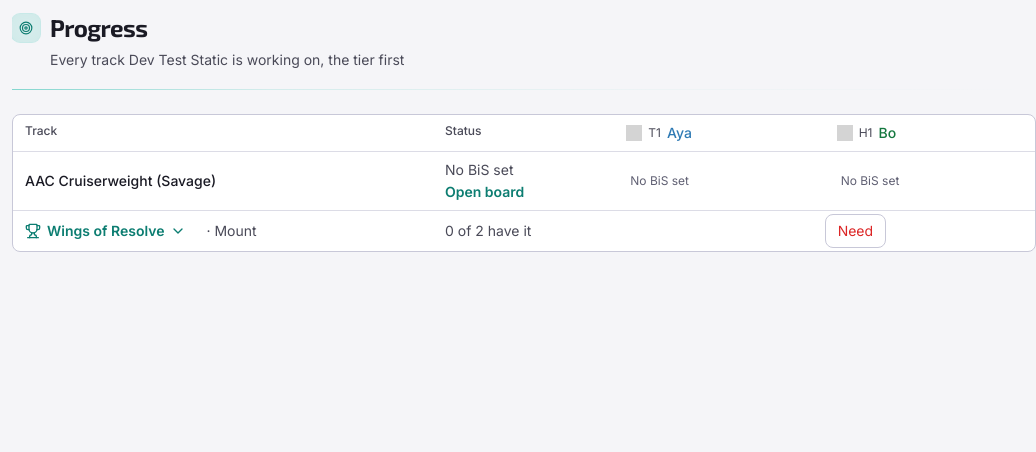
Test: ProgressPage open row: I got it under View As (S2a-3a·G3; R-S3-7, R-S3-16) › hides for a drop the viewed user already has
Click the button "Wings of Resolve". click: (106, 231)
box: [13, 215, 198, 247]
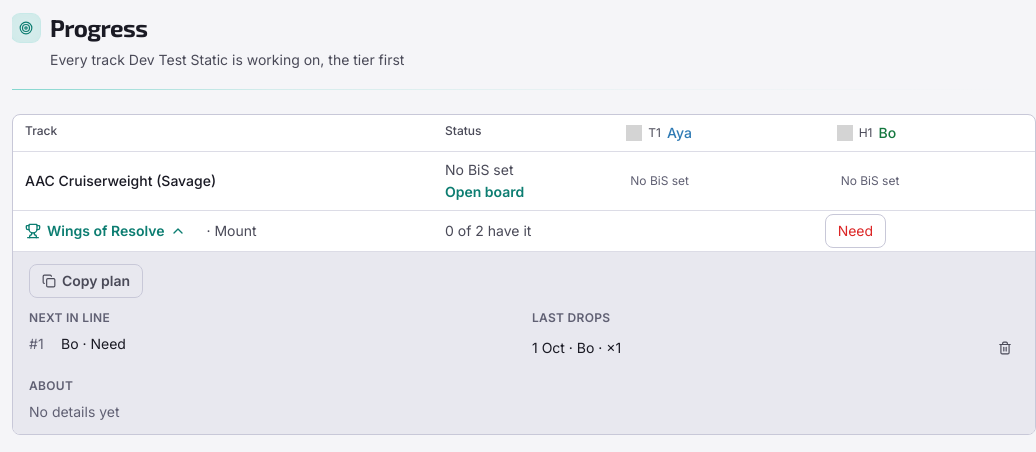
Now the text "1 Oct · Bo · ×1" is shown, box [532, 339, 621, 356]
